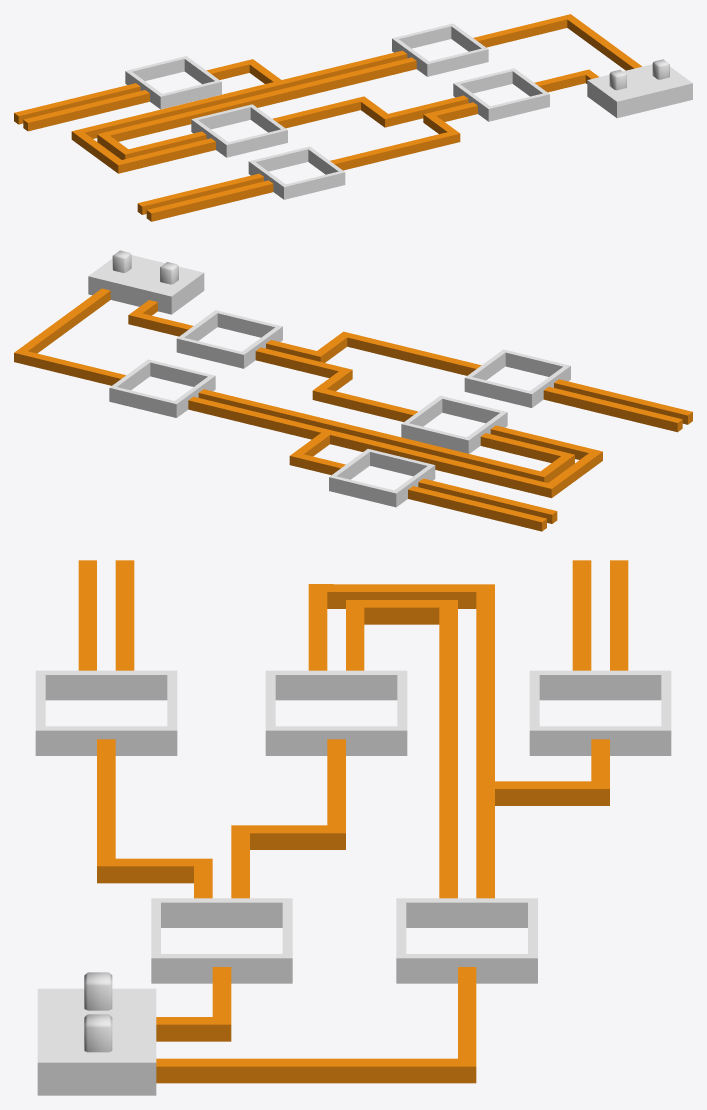
The model's file is Gate Puzzle.fbx.
3 views of the same model, one above another, from view 1: azimuth 30°, elevation 25°; view 2: azimuth 150°, elevation 25°; view 3: azimuth 270°, elevation 25° (orthographic). The views are drawn at different scales.
Parts seen in each view (by area): view 1: Wires, Gate Slots, End Lights; view 2: Wires, Gate Slots, End Lights; view 3: Wires, Gate Slots, End Lights.
Boxes of the visible parts, bbox=[...] form: Wires: bbox=[14, 14, 641, 221]; Gate Slots: bbox=[125, 23, 549, 199]; End Lights: bbox=[587, 59, 692, 118]; Wires: bbox=[14, 288, 692, 531]; Gate Slots: bbox=[109, 310, 570, 507]; End Lights: bbox=[88, 250, 204, 314]; Wires: bbox=[78, 560, 628, 1083]; Gate Slots: bbox=[35, 670, 671, 983]; End Lights: bbox=[37, 972, 156, 1095].
Size of the model in its own units: 1464 by 80.24 by 758.
